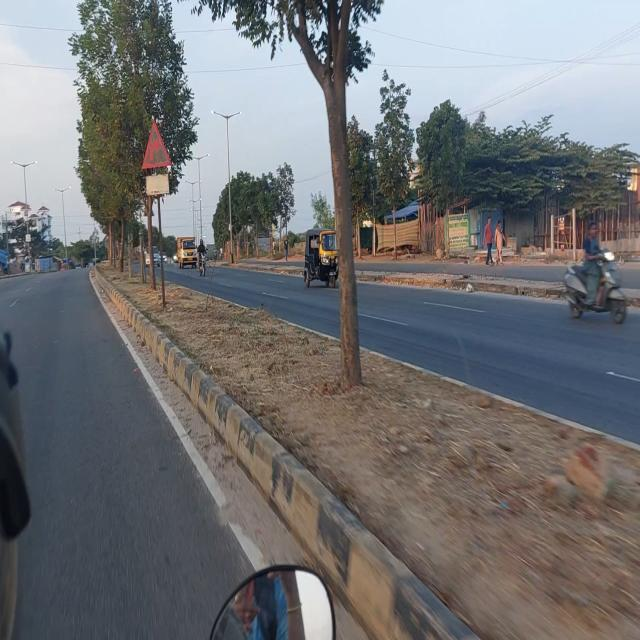bien_cam: (141, 116, 170, 171)
